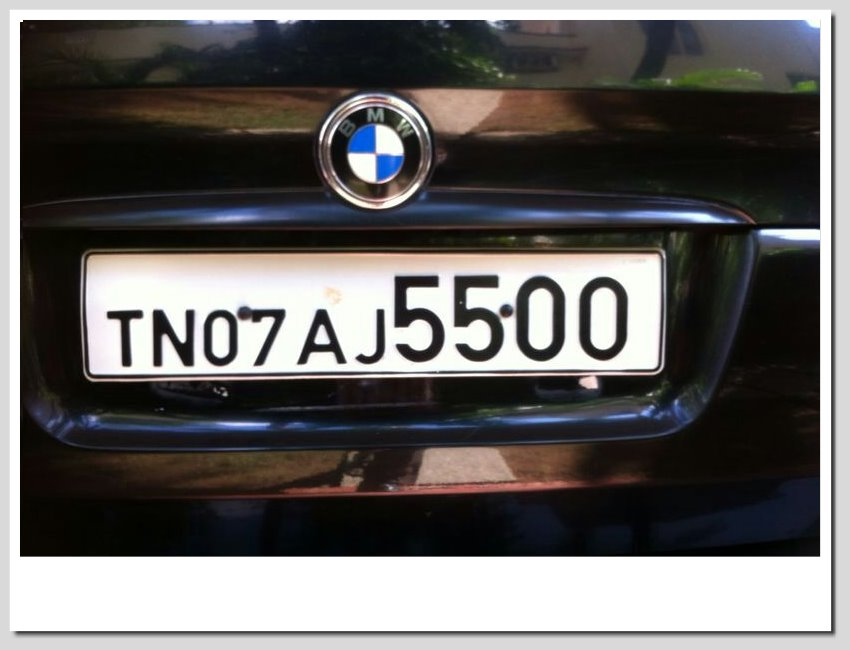T: (101, 300, 147, 373)
